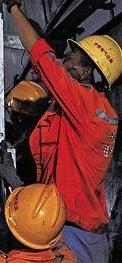gloves: (0, 141, 24, 189), (0, 141, 19, 176)
hard-hat: (0, 166, 36, 227)
ppe-suit: (26, 36, 116, 250)
